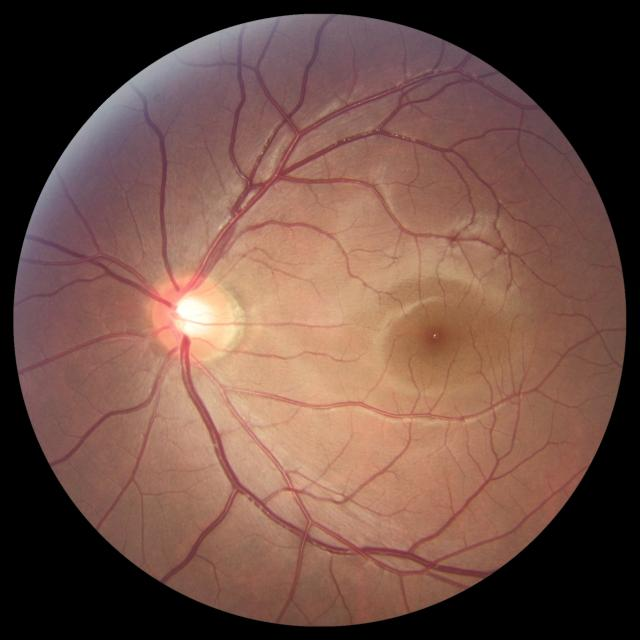OC: (172, 294, 212, 338)
OD: (149, 271, 238, 360)
